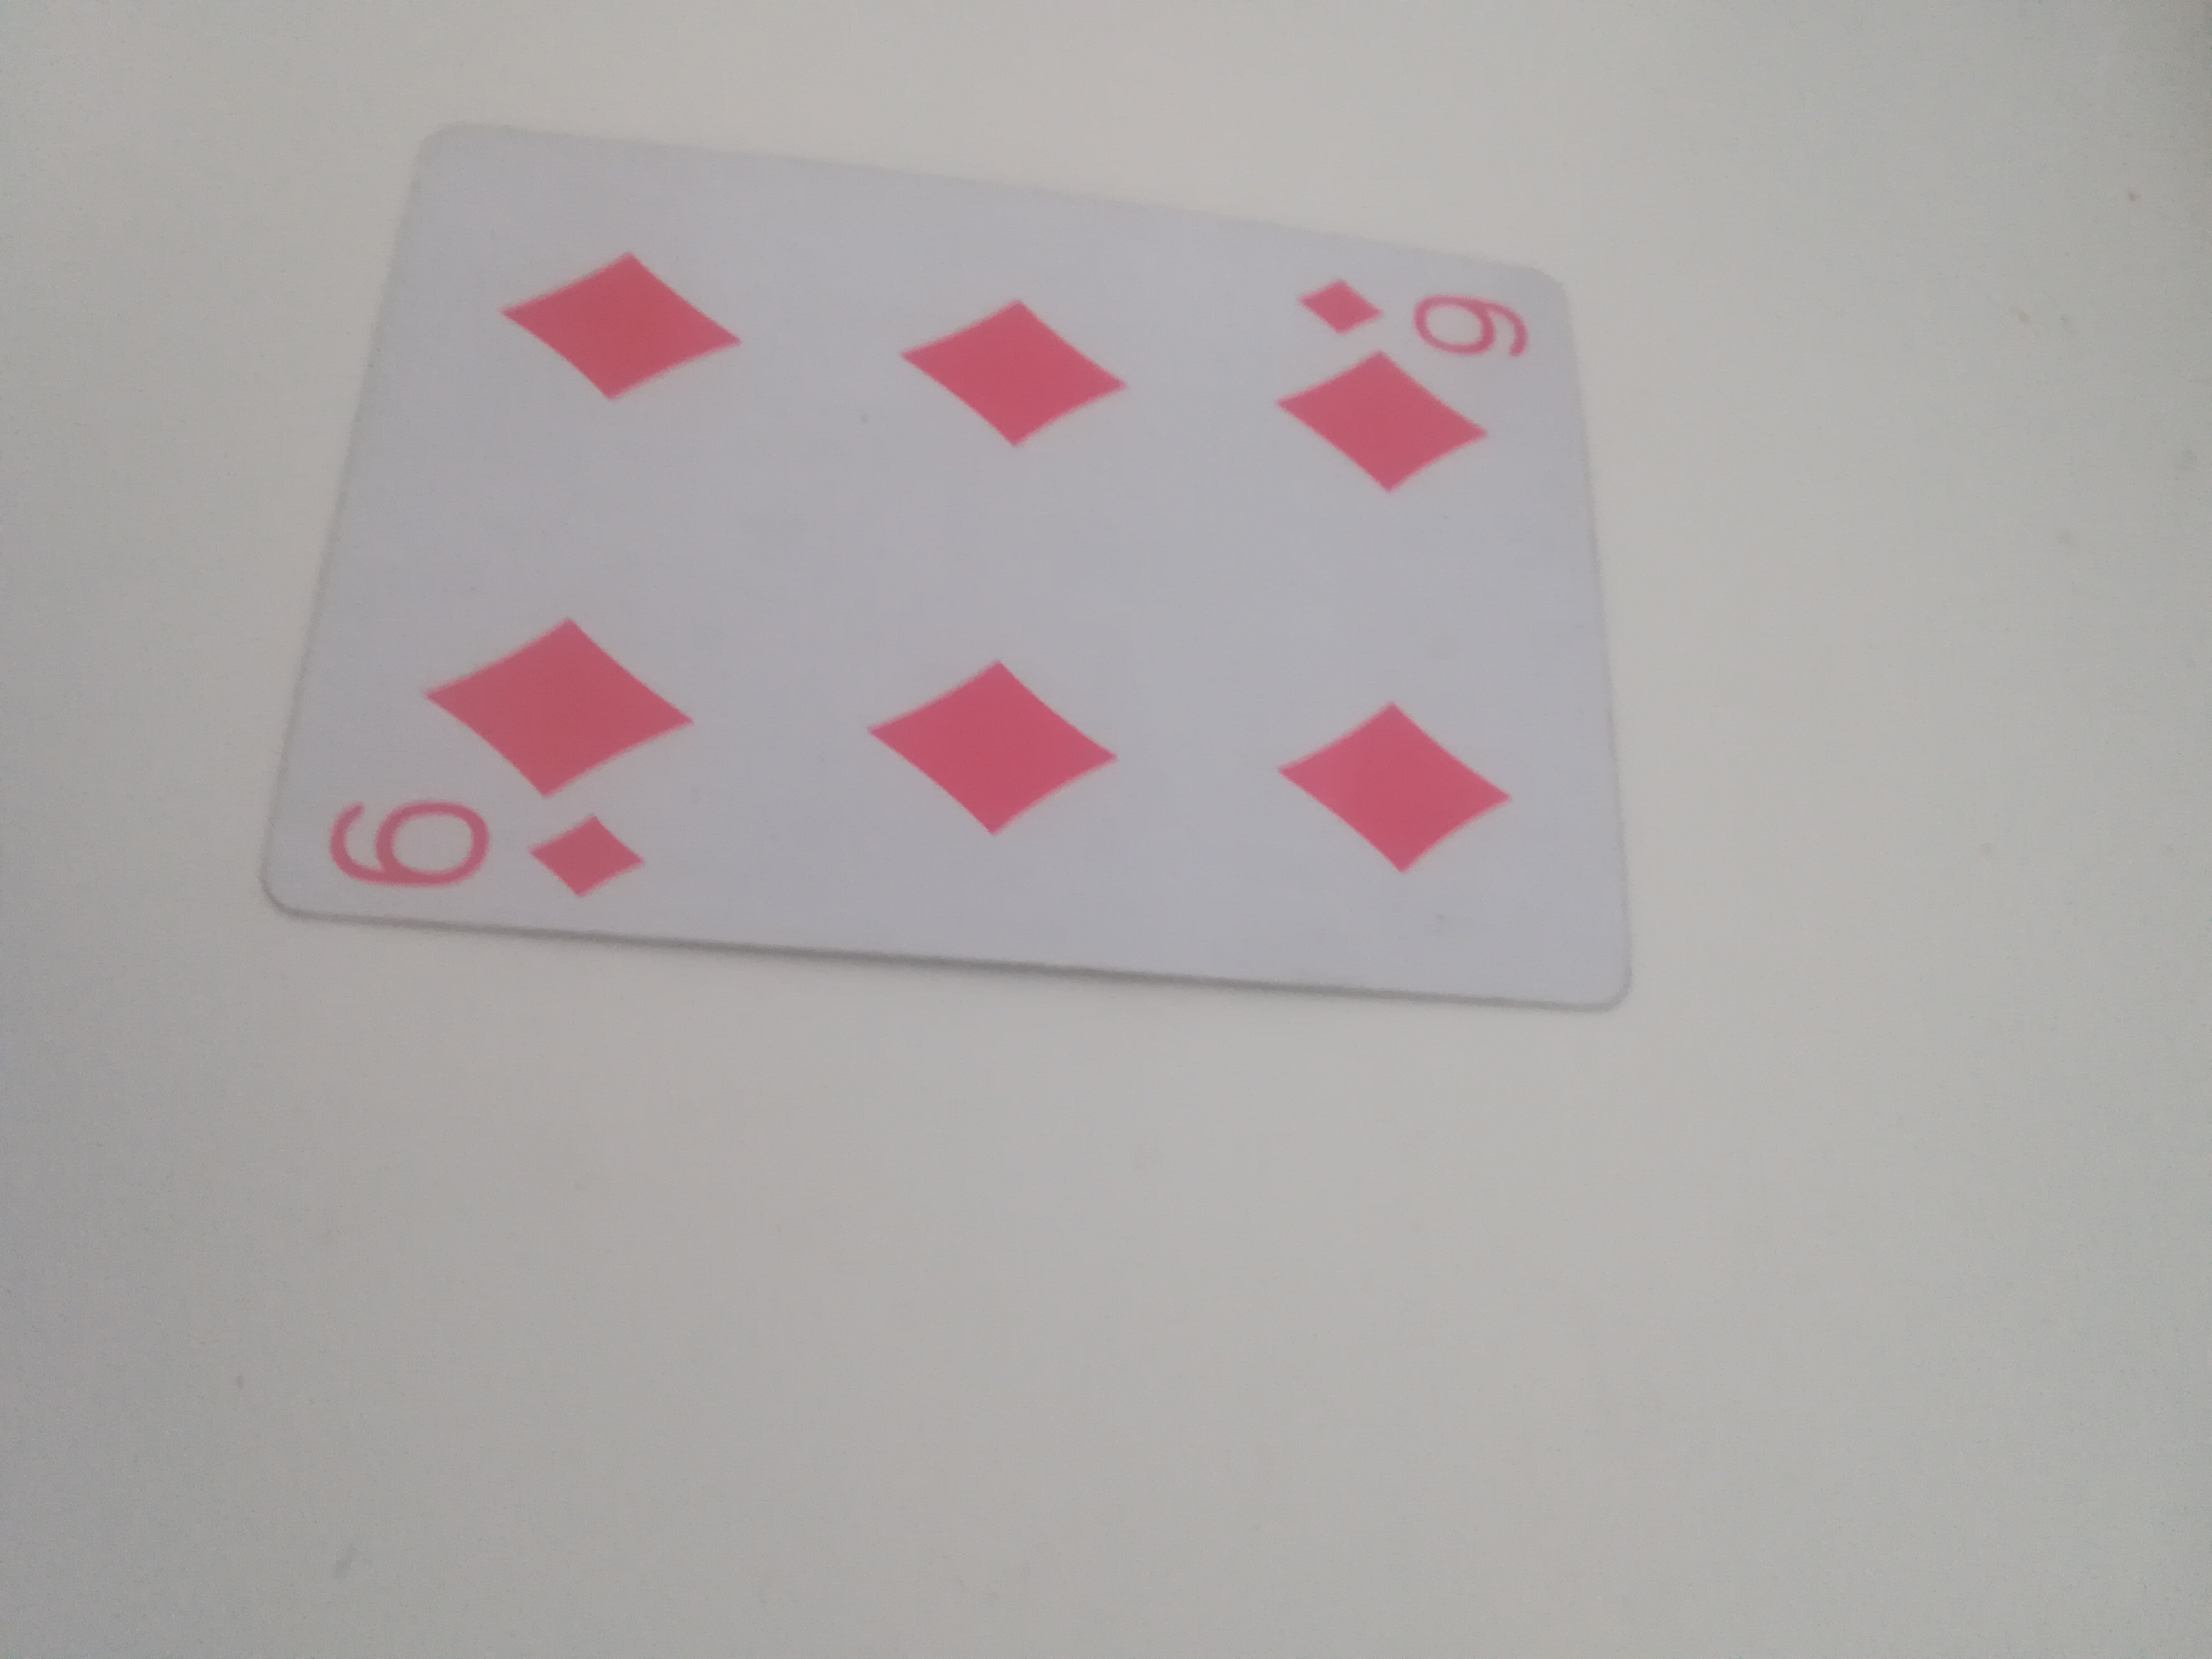6D: (254, 146, 1615, 1019)
